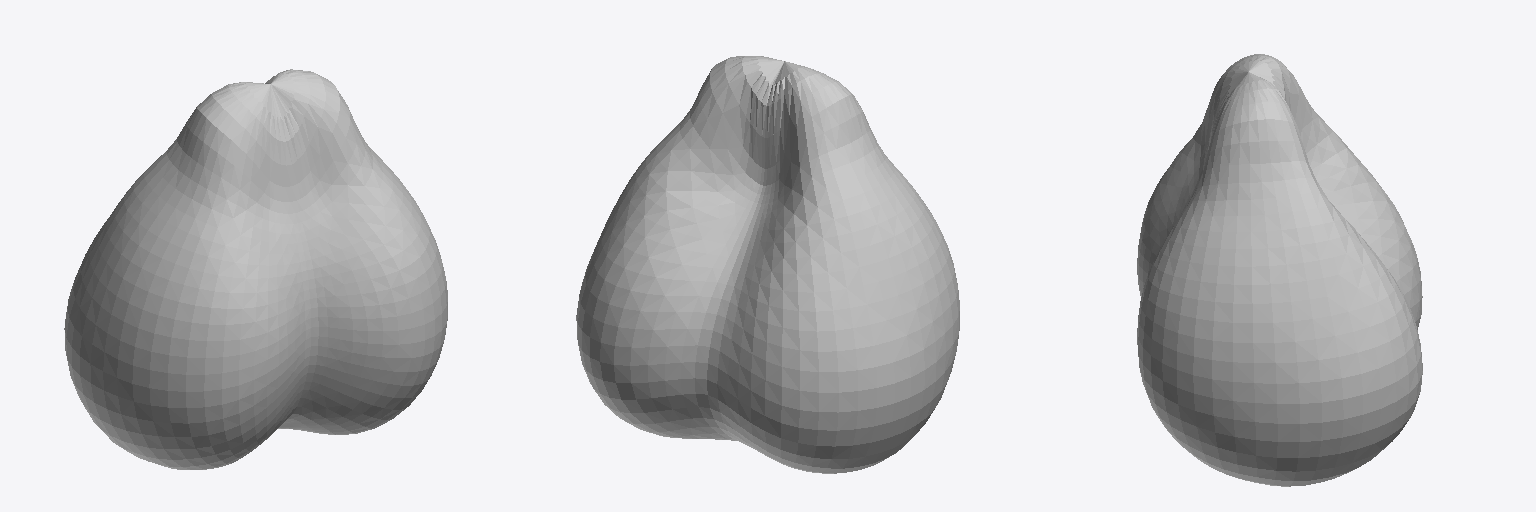
File: pone_Nutts.obj
3 renders of one model, left to right at view 1: azimuth 30°, elevation 25°; view 2: azimuth 150°, elevation 25°; view 3: azimuth 270°, elevation 25°, orthographic.
Parts seen in each view (by area): view 1: Sphere.005; view 2: Sphere.005; view 3: Sphere.005.
Part boxes in pixels (left/top/right/bottom): Sphere.005: left=64, top=69, right=447, bottom=469; Sphere.005: left=576, top=56, right=959, bottom=473; Sphere.005: left=1137, top=54, right=1422, bottom=486.
Bounding box in the file's own units: 13.11 × 13.88 × 9.69.